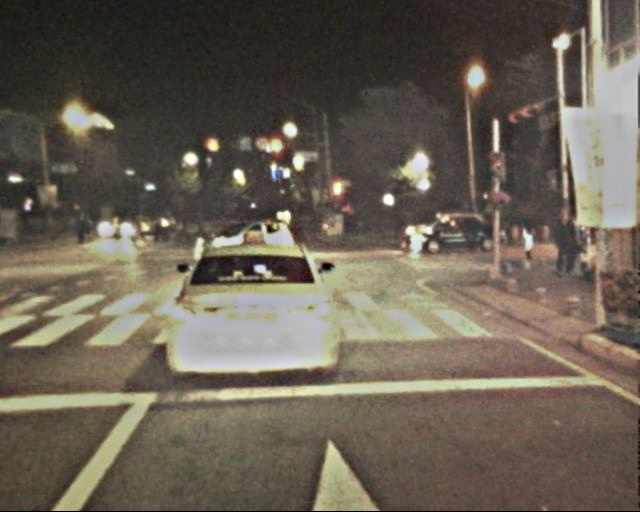person: (551, 208, 578, 274), (518, 223, 537, 269), (74, 209, 94, 241), (188, 211, 203, 248), (213, 211, 228, 247), (149, 211, 163, 244), (172, 209, 185, 241)
